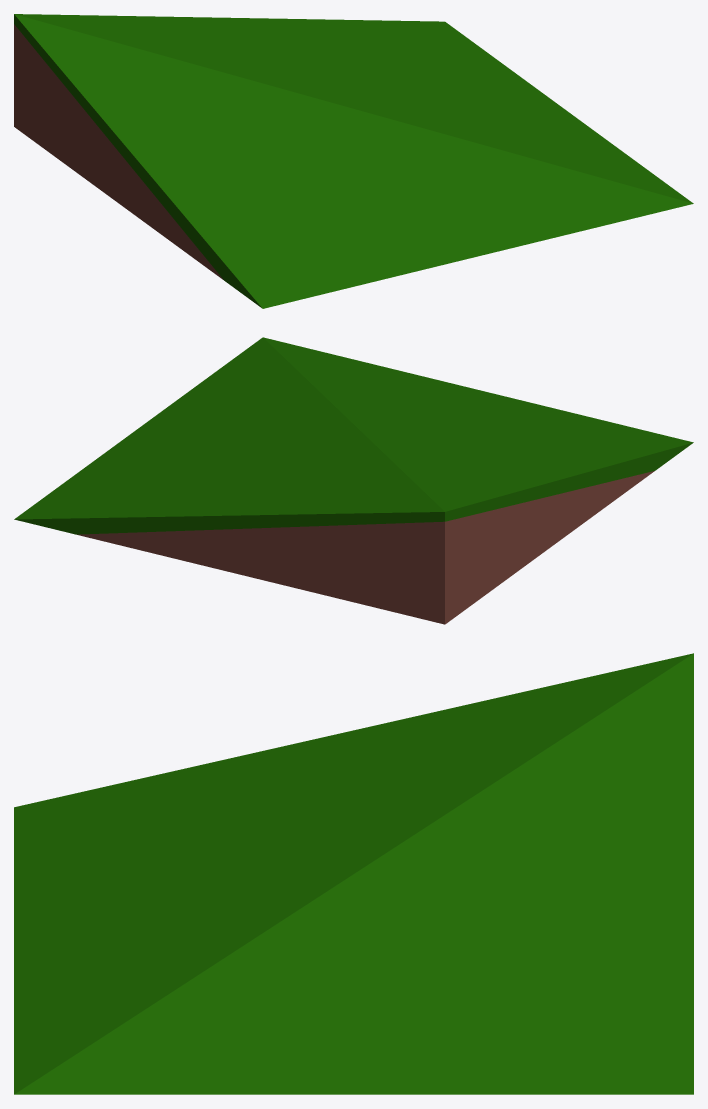
Rendered from Plain_Grass_Large_Slope_Corner_.glb.
3 views of the same model, one above another, from view 1: azimuth 30°, elevation 25°; view 2: azimuth 150°, elevation 25°; view 3: azimuth 270°, elevation 25° (orthographic). The views are drawn at different scales.
Parts seen in each view (by area): view 1: Plain Grass Large Slope Corner; view 2: Plain Grass Large Slope Corner; view 3: Plain Grass Large Slope Corner.
Boxes of the visible parts, x1=… form: Plain Grass Large Slope Corner: x1=14, y1=14, x2=693, y2=308; Plain Grass Large Slope Corner: x1=14, y1=337, x2=693, y2=624; Plain Grass Large Slope Corner: x1=14, y1=653, x2=693, y2=1094.
Size of the model in its own units: 4 by 1 by 4.
Materials: 1 (1 with a texture image).
